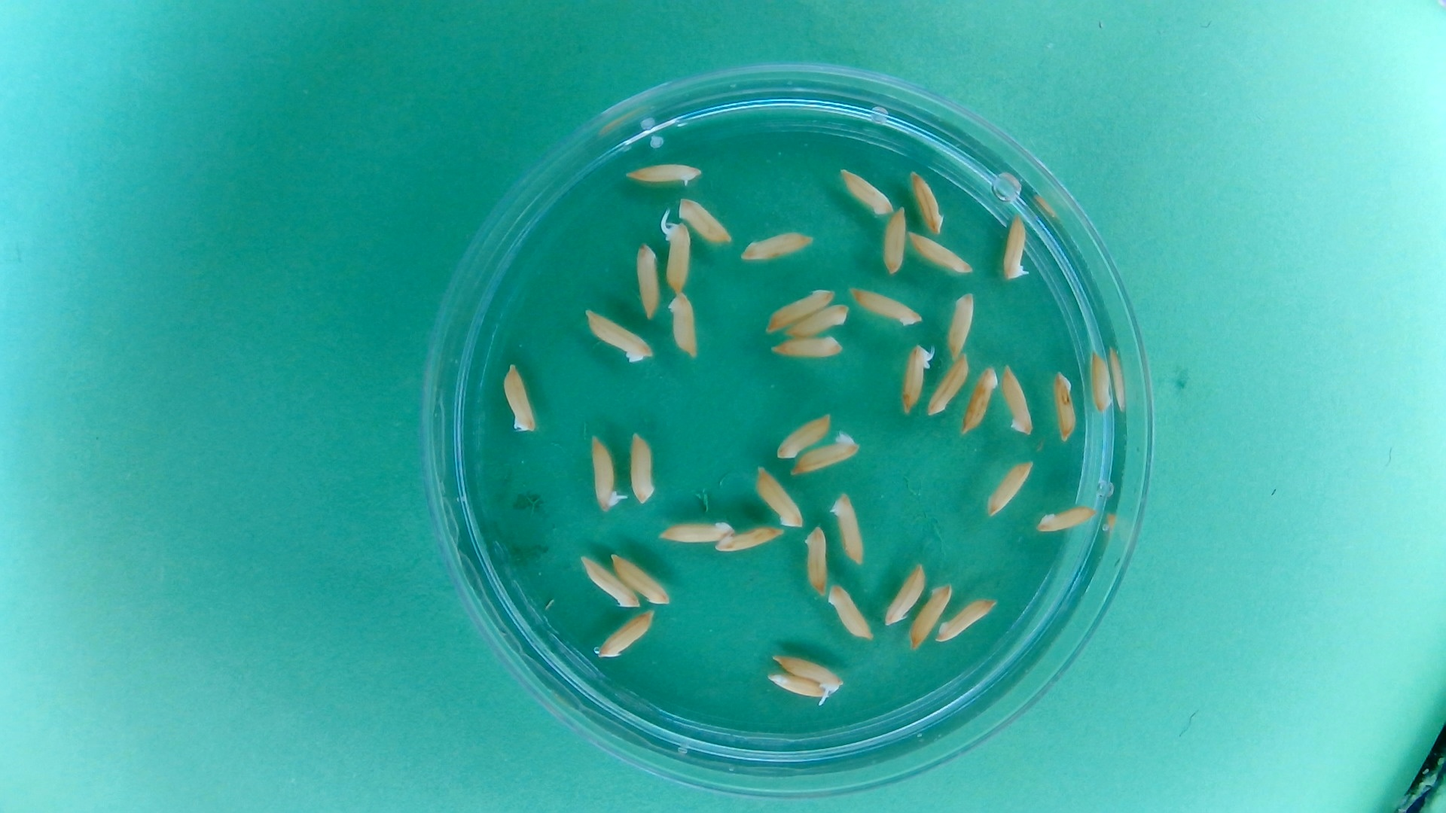no: (581, 306, 654, 366), (578, 553, 642, 610), (608, 549, 673, 605), (761, 285, 834, 334), (752, 463, 805, 529), (789, 431, 862, 477), (594, 610, 658, 661), (908, 581, 955, 650), (848, 285, 923, 328), (934, 595, 999, 644), (907, 230, 976, 276), (773, 410, 833, 461), (883, 559, 928, 627), (501, 360, 541, 436), (837, 165, 895, 217), (825, 581, 875, 641), (984, 458, 1033, 519), (925, 352, 970, 418), (828, 491, 867, 567), (959, 363, 999, 436), (677, 194, 734, 245), (738, 227, 816, 264), (999, 362, 1036, 439), (908, 167, 947, 235), (665, 289, 701, 359), (785, 302, 853, 338), (654, 517, 737, 546), (768, 333, 847, 363), (1049, 368, 1080, 444), (712, 524, 787, 555), (944, 289, 977, 359), (632, 239, 661, 318), (627, 428, 657, 504), (1033, 502, 1100, 536), (801, 524, 831, 598), (1086, 349, 1117, 416), (767, 671, 836, 701), (880, 206, 909, 276), (621, 161, 703, 185)
yes: (587, 431, 626, 513), (773, 653, 844, 692), (898, 343, 935, 416), (659, 215, 693, 294), (999, 212, 1032, 284)
